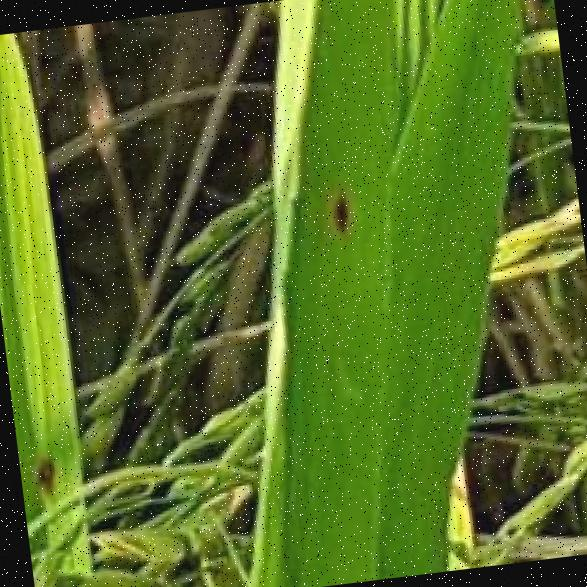Brown_Spot: (313, 168, 358, 245)
